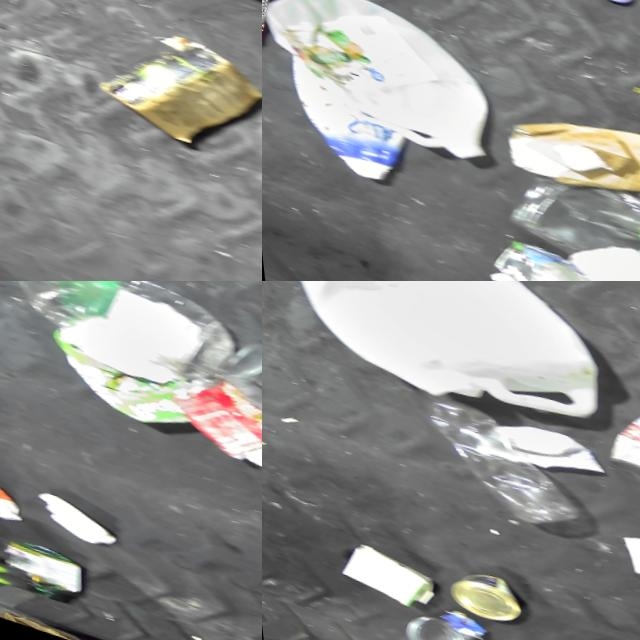can: (588, 372, 640, 524), (209, 322, 262, 443), (475, 231, 598, 281), (433, 557, 519, 624), (385, 591, 483, 640)
milk_jug: (262, 281, 622, 442), (262, 0, 499, 163)
plastic_bottle: (397, 385, 590, 534), (0, 281, 239, 399)
